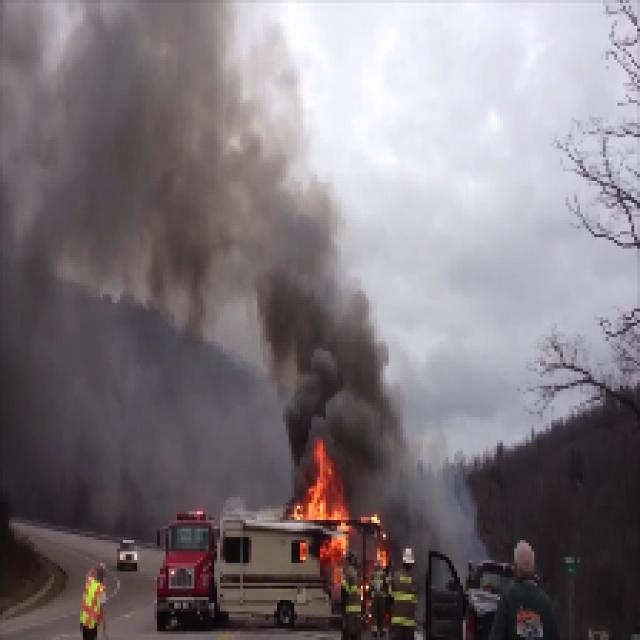fire: (292, 443, 349, 523), (318, 522, 386, 588)
smoke: (3, 2, 294, 300), (270, 305, 400, 437)
